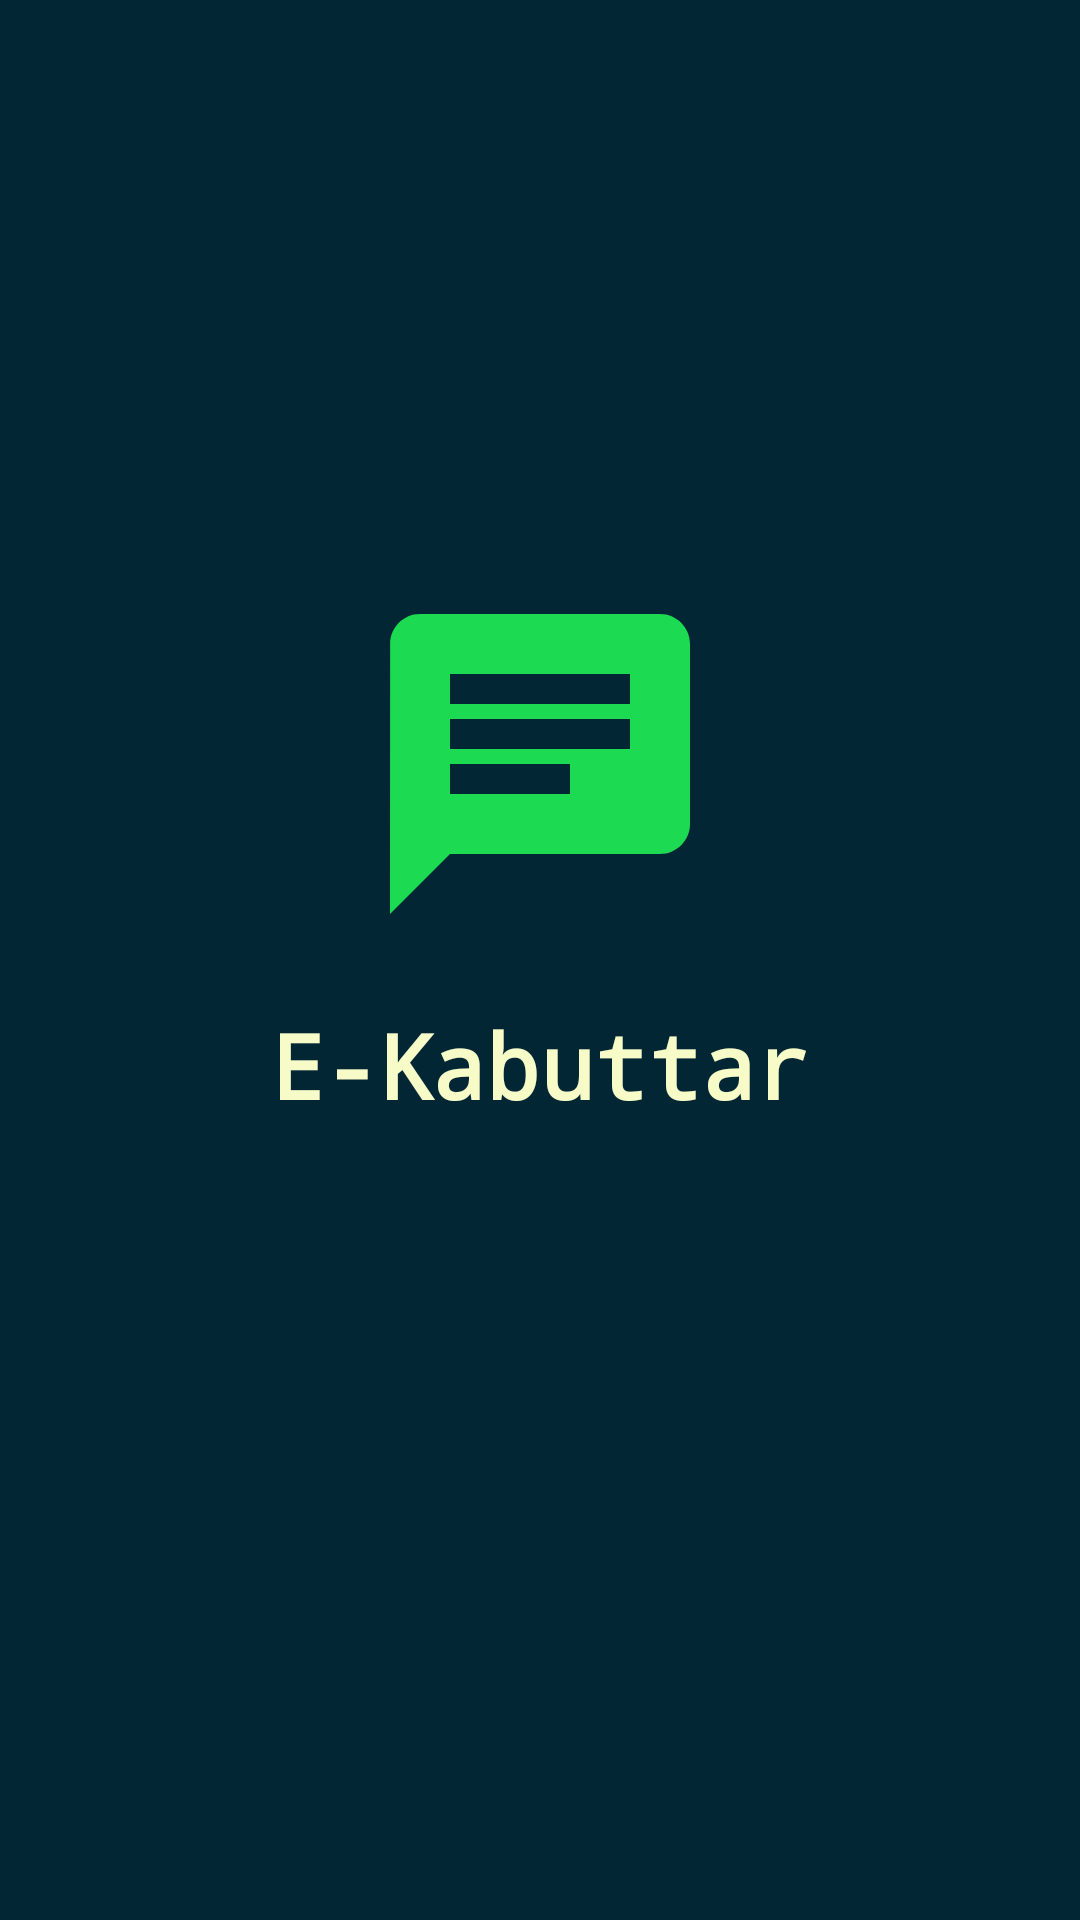

Named icons in this screenshot (1080x1920) and their centers, point (x, y):
chat: point (540, 764)
